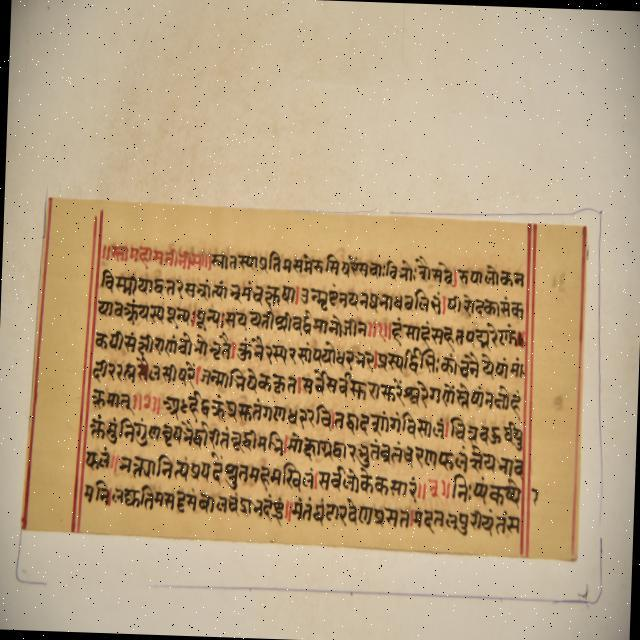text_paragraph: (18, 198, 584, 564)
